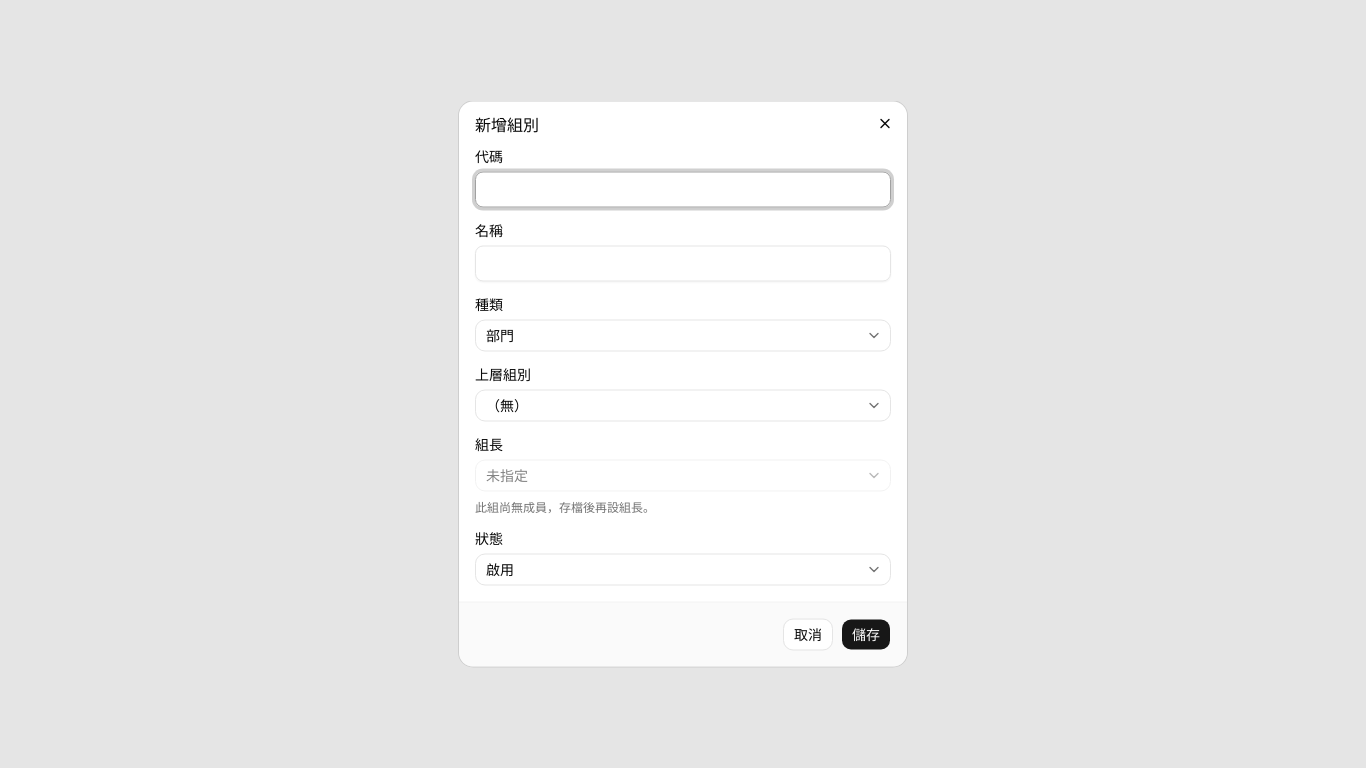
Scenario: GroupForm 組別表單 › 上層組別下拉提供「（無）」選項與其他組別
This screenshot has width=1366, height=768.
Expected: the dialog is shown, [459, 102, 907, 666]
Click the dropdown named "上層組別".
click(507, 406)  # box [475, 390, 891, 422]
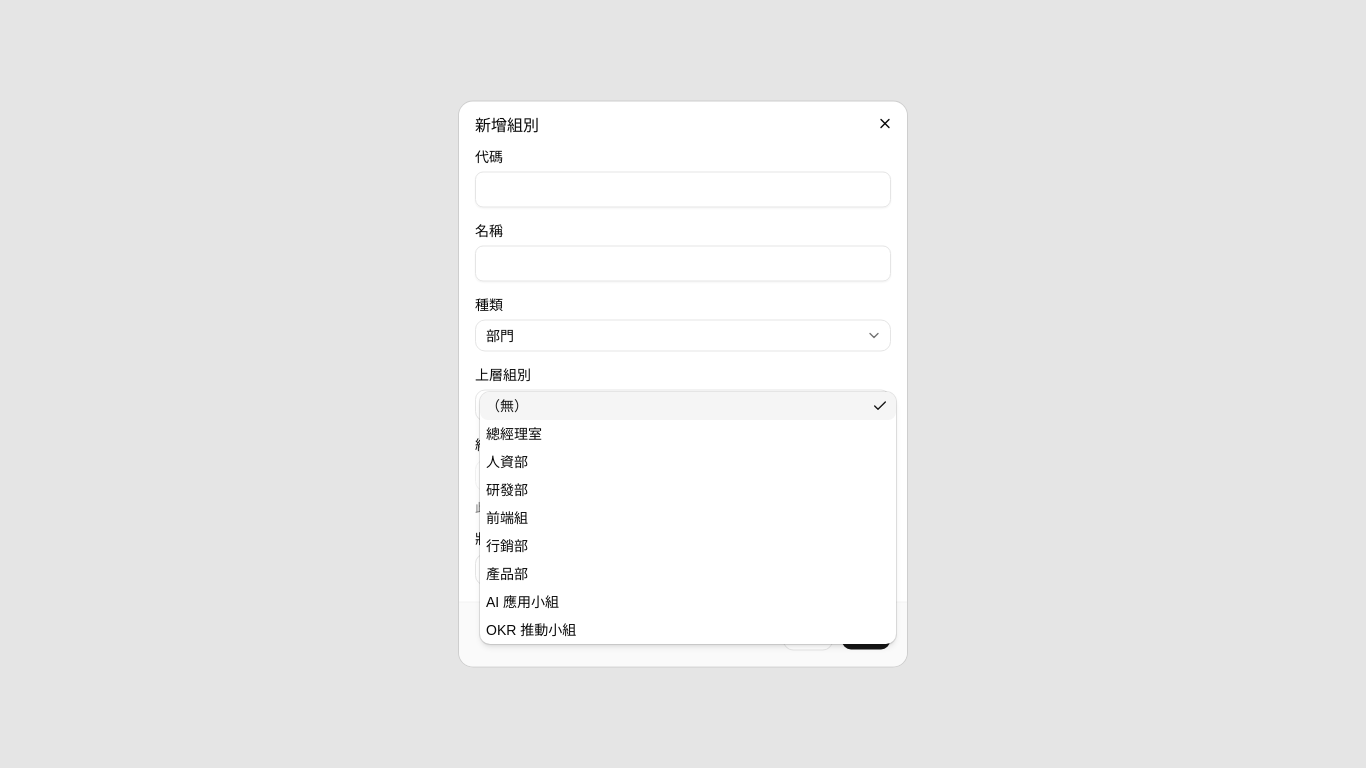
Expected: the text "（無）" below "上層組別" is shown, [486, 398, 528, 414]
Expected: the text "總經理室" is shown, [486, 426, 542, 442]
